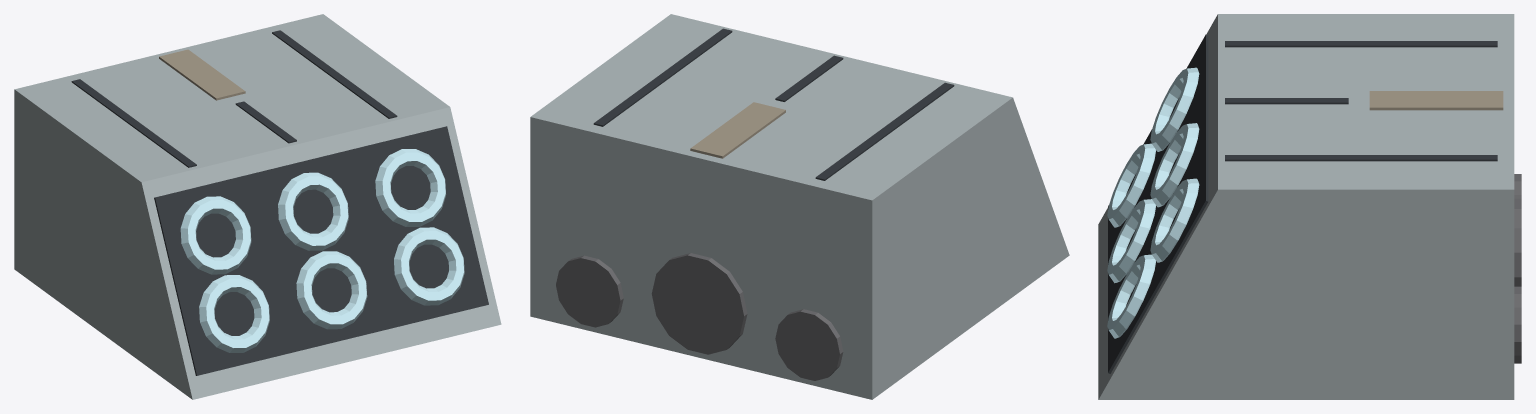
The model's file is vge_giant_electric_thruster.obj.
The picture shows the model from 3 angles, left to right: view 1: azimuth 30°, elevation 25°; view 2: azimuth 150°, elevation 25°; view 3: azimuth 270°, elevation 25°; orthographic projection. The views are drawn at different scales.
Parts seen in each view (by area): view 1: vge_giant_electric_thruster_0, vge_giant_electric_thruster_1, vge_giant_electric_thruster_3, vge_giant_electric_thruster_4, vge_giant_electric_thruster_6, vge_giant_electric_thruster_5, vge_giant_electric_thruster_2, vge_giant_electric_thruster_7, vge_giant_electric_thruster_8, vge_giant_electric_thruster_9, vge_giant_electric_thruster_10, vge_giant_electric_thruster_11; view 2: vge_giant_electric_thruster_0, vge_giant_electric_thruster_13, vge_giant_electric_thruster_12, vge_giant_electric_thruster_14, vge_giant_electric_thruster_8, vge_giant_electric_thruster_9, vge_giant_electric_thruster_10, vge_giant_electric_thruster_11; view 3: vge_giant_electric_thruster_0, vge_giant_electric_thruster_1, vge_giant_electric_thruster_8, vge_giant_electric_thruster_5, vge_giant_electric_thruster_7, vge_giant_electric_thruster_3, vge_giant_electric_thruster_6, vge_giant_electric_thruster_2, vge_giant_electric_thruster_4, vge_giant_electric_thruster_9, vge_giant_electric_thruster_10, vge_giant_electric_thruster_11 (+2 smaller).
Part boxes in pixels (x1,y1,x2,y2): vge_giant_electric_thruster_0: [14, 14, 501, 399]; vge_giant_electric_thruster_1: [154, 126, 488, 375]; vge_giant_electric_thruster_3: [180, 196, 251, 274]; vge_giant_electric_thruster_4: [296, 251, 367, 329]; vge_giant_electric_thruster_6: [394, 227, 464, 305]; vge_giant_electric_thruster_5: [278, 172, 348, 250]; vge_giant_electric_thruster_2: [199, 275, 269, 352]; vge_giant_electric_thruster_7: [375, 149, 445, 226]; vge_giant_electric_thruster_8: [159, 49, 245, 100]; vge_giant_electric_thruster_9: [71, 79, 196, 167]; vge_giant_electric_thruster_10: [272, 30, 397, 118]; vge_giant_electric_thruster_11: [235, 101, 296, 143]; vge_giant_electric_thruster_0: [530, 14, 1069, 399]; vge_giant_electric_thruster_13: [651, 253, 747, 354]; vge_giant_electric_thruster_12: [775, 309, 843, 380]; vge_giant_electric_thruster_14: [556, 255, 623, 327]; vge_giant_electric_thruster_8: [690, 102, 785, 158]; vge_giant_electric_thruster_9: [815, 82, 954, 180]; vge_giant_electric_thruster_10: [593, 28, 732, 126]; vge_giant_electric_thruster_11: [775, 55, 843, 101]; vge_giant_electric_thruster_0: [1098, 14, 1514, 399]; vge_giant_electric_thruster_1: [1108, 34, 1208, 373]; vge_giant_electric_thruster_8: [1369, 91, 1503, 110]; vge_giant_electric_thruster_5: [1150, 123, 1199, 207]; vge_giant_electric_thruster_7: [1150, 178, 1199, 262]; vge_giant_electric_thruster_3: [1150, 67, 1199, 151]; vge_giant_electric_thruster_6: [1107, 254, 1155, 338]; vge_giant_electric_thruster_2: [1107, 143, 1155, 227]; vge_giant_electric_thruster_4: [1107, 199, 1155, 283]; vge_giant_electric_thruster_9: [1225, 41, 1497, 47]; vge_giant_electric_thruster_10: [1225, 155, 1497, 161]; vge_giant_electric_thruster_11: [1225, 98, 1348, 104].
Size of the model in its own units: 2.96 by 1.67 by 3.01.
